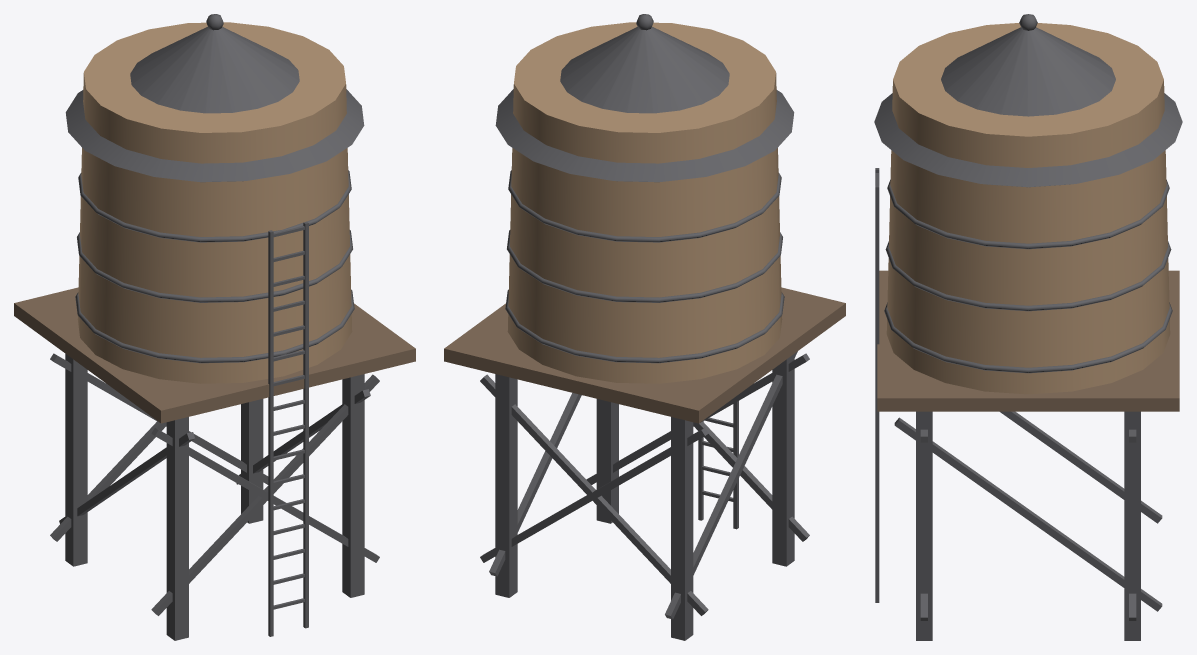
The model's file is WaterTower.glb.
3 renders of one model, left to right at view 1: azimuth 30°, elevation 25°; view 2: azimuth 150°, elevation 25°; view 3: azimuth 270°, elevation 25°, orthographic. The views are drawn at different scales.
Parts seen in each view (by area): view 1: WaterTower_cyl, WaterTower_cyl.001, WaterTower_cube.010, WaterTower_cube.002, WaterTower_cube, WaterTower_cube.001, WaterTower_cube.004, WaterTower_cube.011, WaterTower_cube.012, WaterTower_cube.003, WaterTower_torus, WaterTower_torus.001 (+6 smaller); view 2: WaterTower_cyl, WaterTower_cyl.001, WaterTower_cube.010, WaterTower_cube.003, WaterTower_cube.001, WaterTower_cube, WaterTower_cube.006, WaterTower_cube.008, WaterTower_cube.002, WaterTower_torus, WaterTower_torus.001, WaterTower_torus.002 (+5 smaller); view 3: WaterTower_cyl, WaterTower_cyl.001, WaterTower_cube.010, WaterTower_cube.002, WaterTower_cube.003, WaterTower_cube.009, WaterTower_cube.012, WaterTower_torus, WaterTower_torus.001, WaterTower_torus.002, WaterTower_cube.008.
Part boxes in pixels (box(x1,y1,x2,y2)): WaterTower_cyl: box(77, 22, 352, 383); WaterTower_cyl.001: box(65, 26, 364, 181); WaterTower_cube.010: box(14, 287, 415, 423); WaterTower_cube.002: box(342, 374, 364, 597); WaterTower_cube: box(166, 417, 188, 640); WaterTower_cube.001: box(65, 354, 87, 566); WaterTower_cube.004: box(151, 374, 379, 615); WaterTower_cube.011: box(268, 230, 273, 636); WaterTower_cube.012: box(303, 221, 308, 628); WaterTower_cube.003: box(241, 399, 263, 523); WaterTower_torus: box(75, 289, 354, 363); WaterTower_torus.001: box(77, 230, 352, 302); WaterTower_cyl: box(507, 22, 782, 383); WaterTower_cyl.001: box(495, 26, 794, 181); WaterTower_cube.010: box(444, 287, 845, 423); WaterTower_cube.003: box(495, 374, 517, 597); WaterTower_cube.001: box(671, 417, 693, 640); WaterTower_cube: box(772, 354, 794, 566); WaterTower_cube.006: box(480, 374, 708, 615); WaterTower_cube.008: box(665, 351, 797, 619); WaterTower_cube.002: box(596, 399, 618, 523); WaterTower_torus: box(505, 289, 784, 363); WaterTower_torus.001: box(507, 230, 782, 302); WaterTower_torus.002: box(508, 170, 781, 242); WaterTower_cyl: box(886, 23, 1170, 394); WaterTower_cyl.001: box(874, 27, 1182, 187); WaterTower_cube.010: box(877, 270, 1179, 411); WaterTower_cube.002: box(916, 411, 932, 640); WaterTower_cube.003: box(1124, 411, 1140, 640); WaterTower_cube.009: box(894, 417, 1162, 611); WaterTower_cube.012: box(875, 185, 879, 602); WaterTower_torus: box(884, 302, 1172, 373); WaterTower_torus.001: box(885, 241, 1171, 311); WaterTower_torus.002: box(887, 179, 1169, 249); WaterTower_cube.008: box(1000, 411, 1162, 523).
Bounding box in the file's own units: 2.96 × 6.13 × 2.96.
